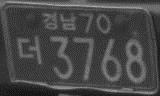0: (97, 12, 111, 34)
3: (49, 35, 73, 79)
6: (101, 39, 122, 81)
7: (74, 37, 94, 79), (78, 12, 95, 33)
8: (124, 38, 147, 83)
경남_O: (40, 11, 77, 31)
더: (16, 34, 42, 65)
